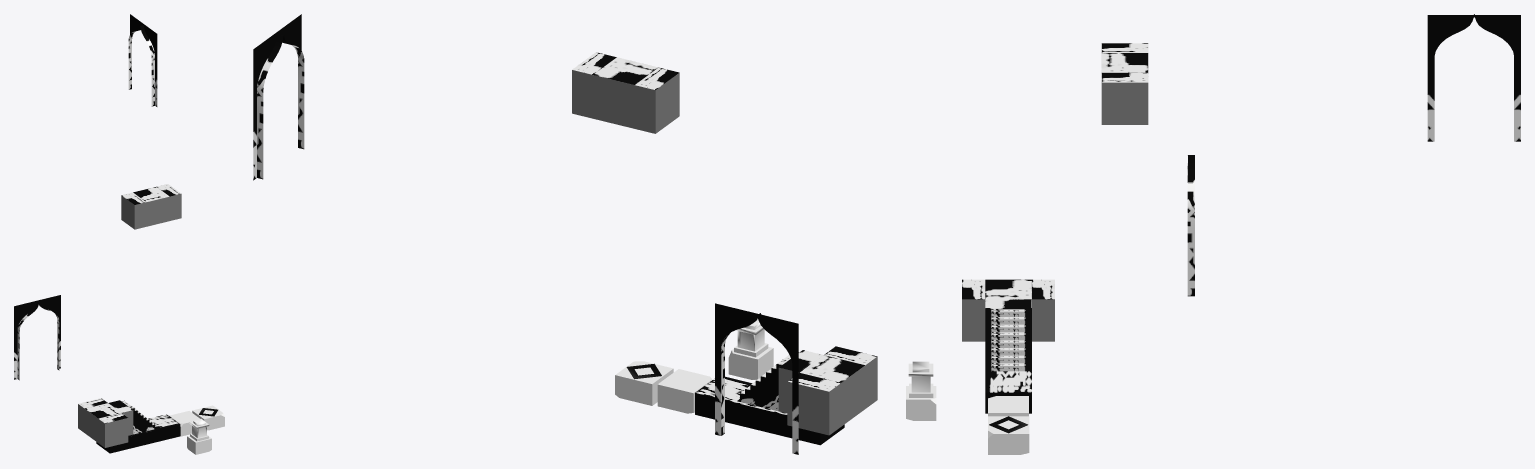
File: PENROSE.fbx
3 renders of one model, left to right at view 1: azimuth 30°, elevation 25°; view 2: azimuth 150°, elevation 25°; view 3: azimuth 270°, elevation 25°, orthographic. The views are drawn at different scales.
Parts seen in each view (by area): view 1: Whitebox_cube (2) (×2), Whitebox_cube (5), Departure_PierSection2 (11), Whitebox_cube (8), Whitebox_cube (1), Whitebox_cube (4), Whitebox_cube (3) (×2), Departure_PierSection2 (10), Whitebox_Stairs_Inset, Slab, Departure_PierSection2 (9), Whitebox_cube (+1 smaller); view 2: Whitebox_cube (2) (×2), Whitebox_cube (5), Whitebox_cube (8), Departure_PierSection2 (11), Whitebox_cube (4), Whitebox_cube, Whitebox_cube (3) (×2), Slab, Departure_PierSection2 (10), Whitebox_Stairs_Inset, Whitebox_cube (1), Departure_PierSection2 (9) (+1 smaller); view 3: Whitebox_cube (8), Whitebox_Stairs_Inset, Whitebox_cube (3), Whitebox_cube (1), Whitebox_cube, Departure_PierSection2 (10), Departure_PierSection2 (11), Whitebox_cube (5), Whitebox_cube (2), Whitebox_cube (4), lantern, Slab (+1 smaller).
Part boxes in pixels (<box>): Whitebox_cube (2) (×2): <box>84,192,146,442</box>; Whitebox_cube (5): <box>14,295,60,380</box>; Departure_PierSection2 (11): <box>96,414,180,453</box>; Whitebox_cube (8): <box>128,14,157,106</box>; Whitebox_cube (1): <box>98,413,128,447</box>; Whitebox_cube (4): <box>133,187,169,226</box>; Whitebox_cube (3) (×2): <box>108,184,181,435</box>; Departure_PierSection2 (10): <box>192,405,224,430</box>; Whitebox_Stairs_Inset: <box>122,400,156,434</box>; Slab: <box>169,411,199,436</box>; Departure_PierSection2 (9): <box>187,435,211,454</box>; Whitebox_cube: <box>78,398,107,432</box>; Whitebox_cube (2) (×2): <box>634,67,865,426</box>; Whitebox_cube (5): <box>715,303,798,454</box>; Whitebox_cube (8): <box>253,14,304,180</box>; Departure_PierSection2 (11): <box>695,376,844,445</box>; Whitebox_cube (4): <box>593,57,658,128</box>; Whitebox_cube: <box>787,372,841,435</box>; Whitebox_cube (3) (×2): <box>572,52,823,413</box>; Slab: <box>657,369,712,413</box>; Departure_PierSection2 (10): <box>615,361,673,405</box>; Whitebox_Stairs_Inset: <box>737,352,799,411</box>; Whitebox_cube (1): <box>824,346,877,408</box>; Departure_PierSection2 (9): <box>728,347,773,379</box>; Whitebox_cube (8): <box>1427,14,1520,141</box>; Whitebox_Stairs_Inset: <box>985,309,1031,371</box>; Whitebox_cube (3): <box>1101,72,1148,124</box>; Whitebox_cube (1): <box>962,279,985,341</box>; Whitebox_cube: <box>1032,279,1054,341</box>; Departure_PierSection2 (10): <box>988,416,1029,454</box>; Departure_PierSection2 (11): <box>985,371,1031,413</box>; Whitebox_cube (5): <box>1187,155,1194,296</box>; Whitebox_cube (2): <box>985,279,1031,299</box>; Whitebox_cube (4): <box>1101,53,1148,72</box>; lantern: <box>908,361,933,397</box>; Slab: <box>988,396,1028,416</box>.
Size of the model in its own units: 9 by 11.61 by 13.2.
